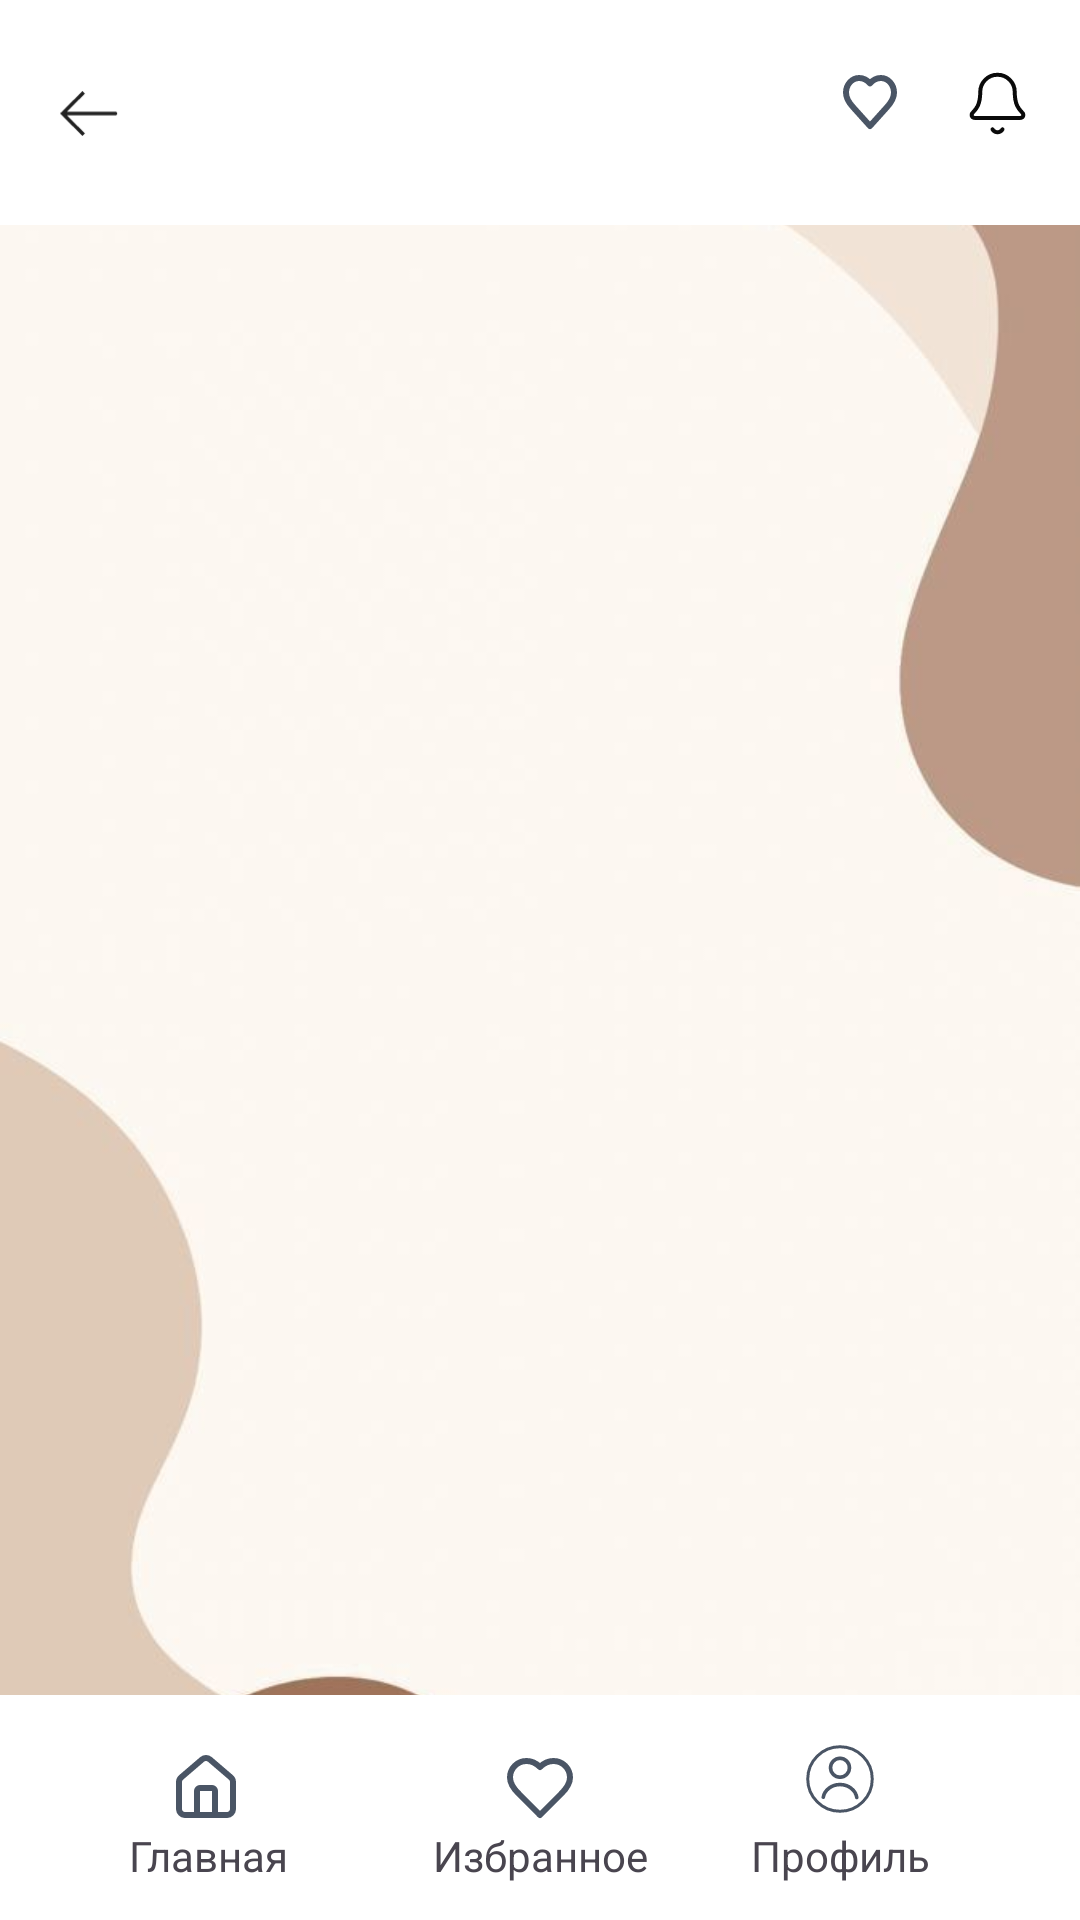

Screen size 1080w x 1920h. Icon name, then its box in pixels as box(x1, y1, x2, y2):
backarrowlt: box(60, 91, 118, 136)
notificationlt: box(969, 72, 1026, 135)
